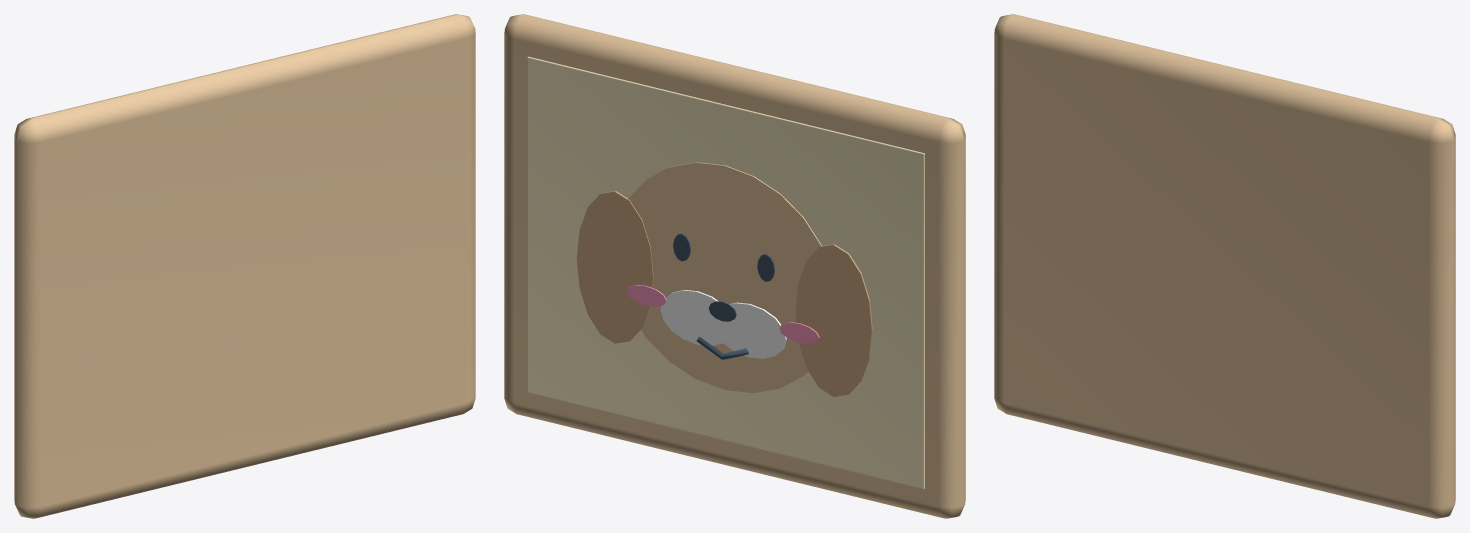
Rendered from art_dog.glb.
3 renders of one model, left to right at view 1: azimuth 30°, elevation 25°; view 2: azimuth 150°, elevation 25°; view 3: azimuth 330°, elevation 25°, orthographic.
Parts seen in each view (by area): view 1: Body; view 2: Body; view 3: Body.
Part boxes in pixels (x1=…): Body: x1=14, y1=14, x2=475, y2=518; Body: x1=504, y1=14, x2=965, y2=518; Body: x1=994, y1=14, x2=1455, y2=518.
Bounding box in the file's own units: 0.6 × 0.5 × 0.05.
Materials: 6 (6 with a texture image).
